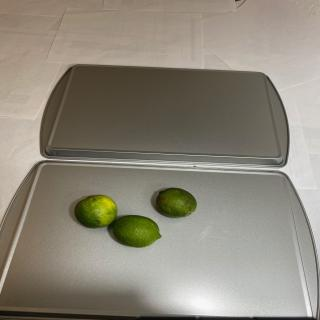Chilli: (155, 187, 197, 218)
Lemon: (112, 215, 162, 248), (74, 194, 118, 228)
